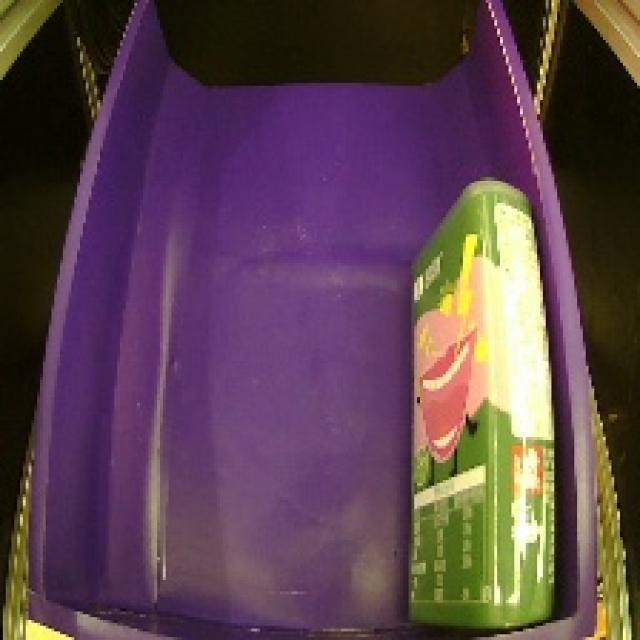metal: (388, 165, 574, 640)
